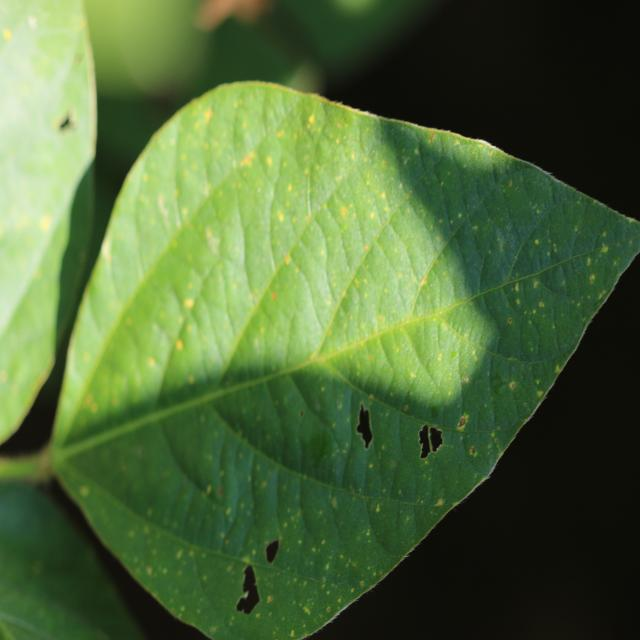Soybean: (45, 81, 640, 640)
downey_mildew: (301, 125, 419, 360), (381, 130, 505, 323), (215, 231, 333, 422), (66, 417, 220, 551), (381, 362, 489, 543), (158, 207, 256, 399), (55, 379, 252, 460), (475, 210, 547, 383), (495, 188, 607, 299), (160, 396, 256, 510), (1, 176, 68, 334), (267, 117, 331, 281), (125, 113, 187, 281), (401, 302, 484, 415), (227, 132, 280, 301), (502, 268, 593, 364), (209, 85, 295, 173), (159, 274, 235, 369), (366, 448, 435, 551), (301, 105, 360, 212), (456, 330, 505, 458), (170, 102, 215, 237), (341, 394, 384, 535), (190, 539, 255, 628), (269, 372, 319, 483), (11, 103, 78, 185), (241, 446, 286, 567), (284, 215, 333, 325), (298, 453, 347, 562), (107, 186, 150, 303), (447, 323, 552, 368), (311, 204, 352, 307), (33, 23, 81, 70)
